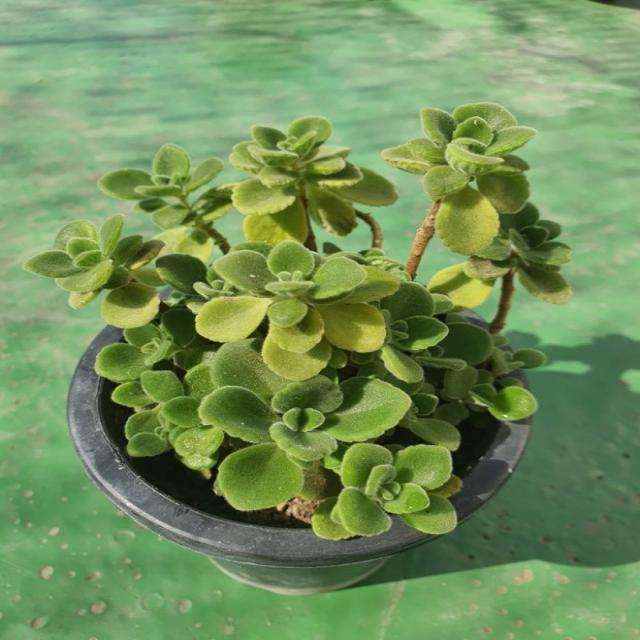Vicks: (198, 339, 412, 511), (197, 240, 400, 380), (382, 104, 537, 259), (230, 116, 398, 249), (23, 215, 163, 328), (98, 144, 235, 250), (312, 442, 457, 539), (464, 202, 572, 304), (95, 309, 197, 382)
